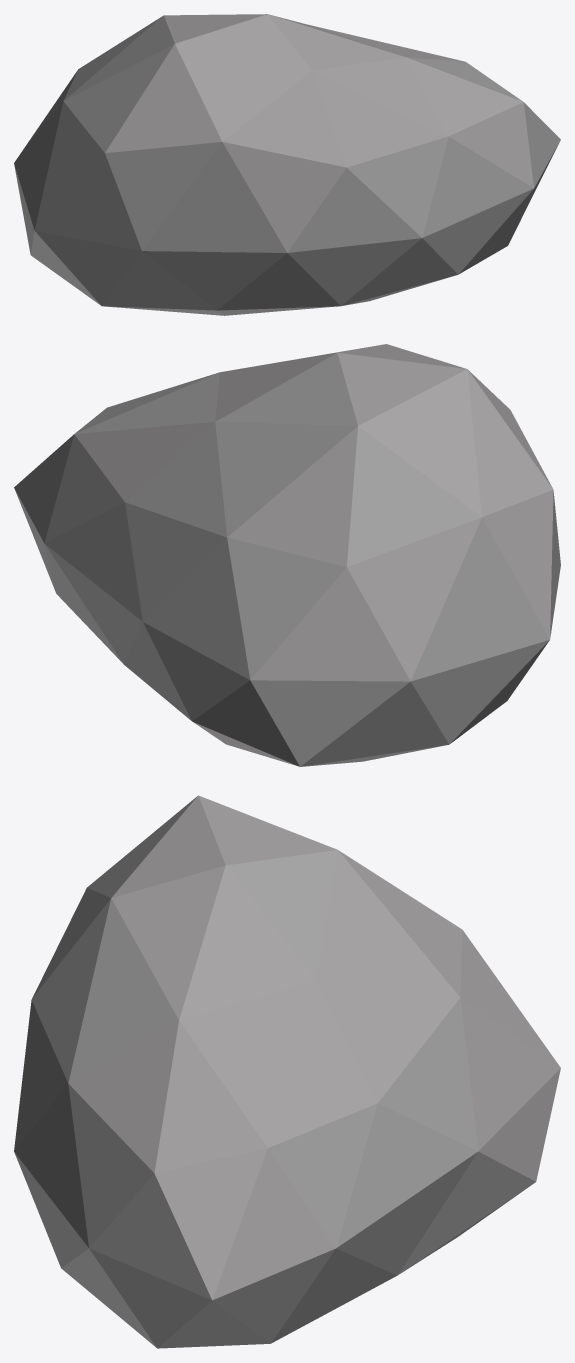
Rendered from Rock7.fbx.
The picture shows the model from 3 angles, top to bottom: view 1: azimuth 30°, elevation 25°; view 2: azimuth 150°, elevation 25°; view 3: azimuth 270°, elevation 25°; orthographic projection. The views are drawn at different scales.
Visible parts, largest first — view 1: Small rock 2; view 2: Small rock 2; view 3: Small rock 2.
Part boxes in pixels (bbox=[...]): Small rock 2: bbox=[14, 14, 560, 315]; Small rock 2: bbox=[14, 344, 560, 766]; Small rock 2: bbox=[14, 795, 560, 1348].
Bounding box in the file's own units: 103 × 142 × 80.56.
